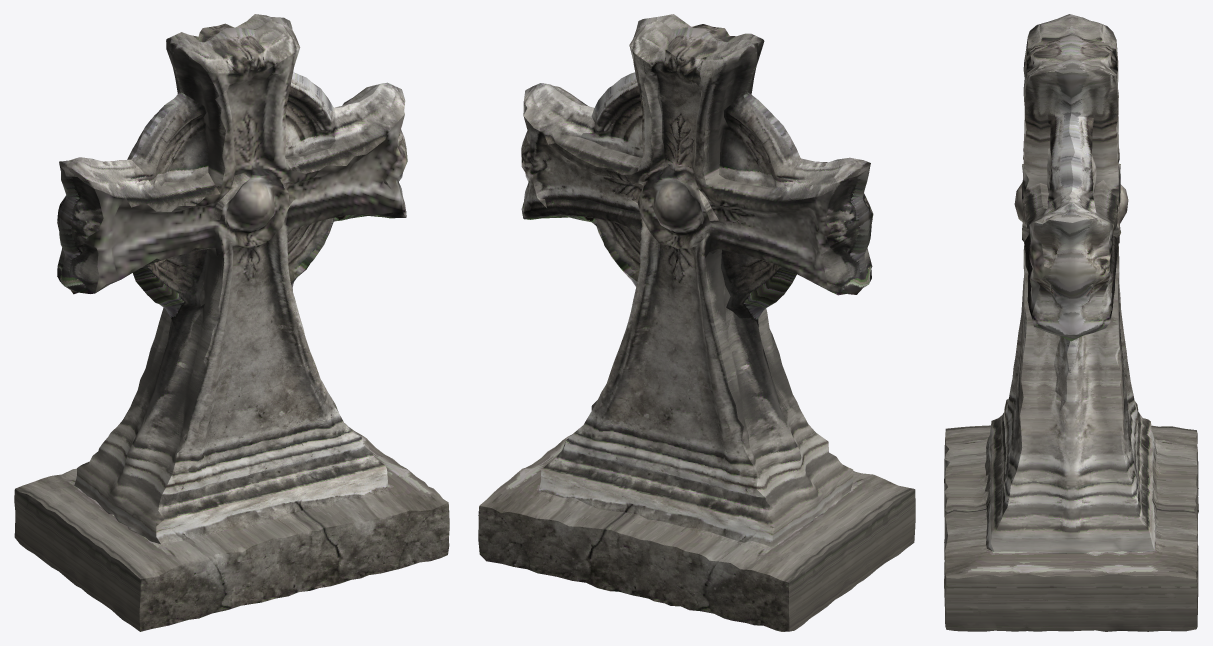
Rendered from grave_a.glb.
The picture shows the model from 3 angles, left to right: view 1: azimuth 30°, elevation 25°; view 2: azimuth 150°, elevation 25°; view 3: azimuth 270°, elevation 25°; orthographic projection.
Visible parts, largest first — view 1: geometry_0; view 2: geometry_0; view 3: geometry_0.
Boxes of the visible parts, left/top/right/bottom form: geometry_0: left=14, top=14, right=449, bottom=631; geometry_0: left=478, top=14, right=915, bottom=631; geometry_0: left=944, top=14, right=1198, bottom=631.
Bounding box in the file's own units: 0.7564 × 1.1 × 0.4881.
1 material, 1 textured.
